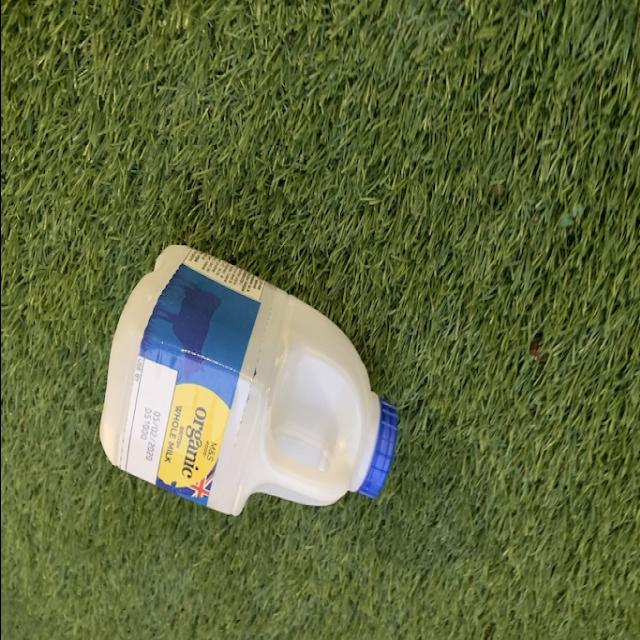litter: (92, 240, 400, 520)
